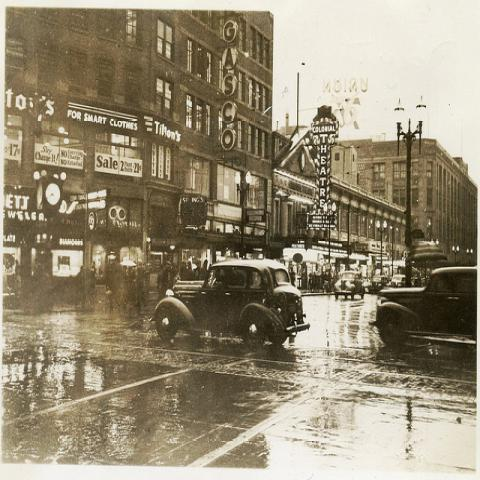car: (152, 262, 308, 350), (373, 268, 477, 355), (334, 270, 368, 301), (368, 276, 389, 289), (388, 272, 406, 287)
